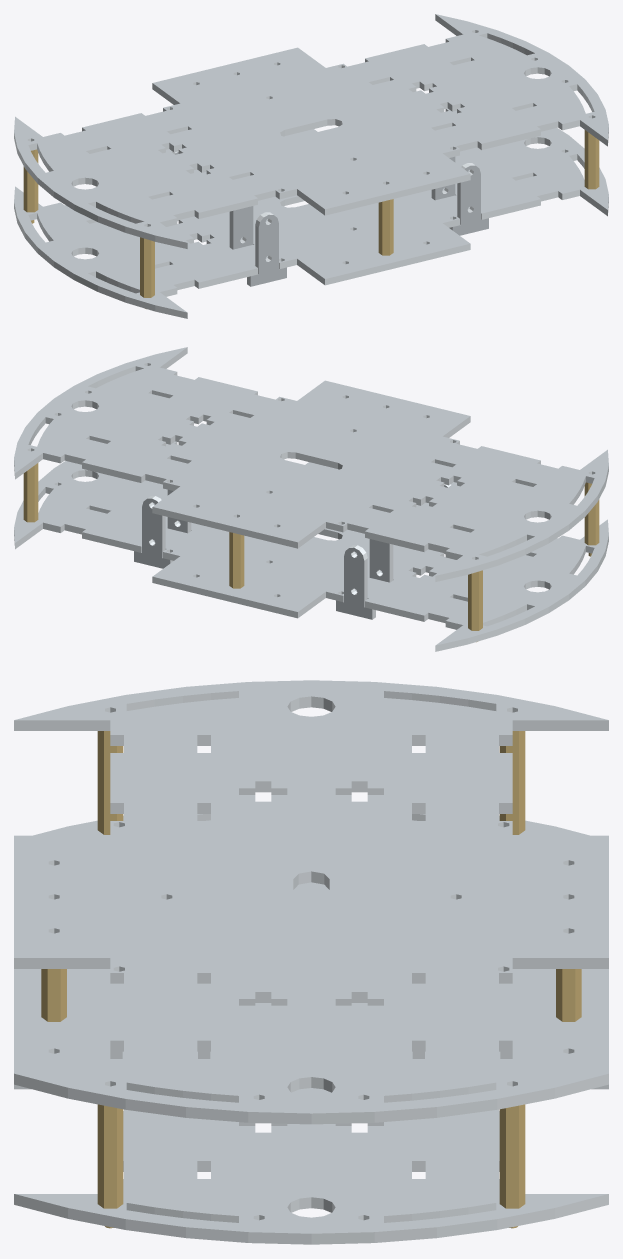
The model's file is chassis.glb.
3 renders of one model, top to bottom at view 1: azimuth 30°, elevation 25°; view 2: azimuth 150°, elevation 25°; view 3: azimuth 270°, elevation 25°, orthographic. The views are drawn at different scales.
Visible parts, largest first — view 1: chassis_plate_top, chassis_plate_bottom, chassis, chassis_bracket_rr_out, chassis_bracket_fr_out, chassis_bracket_rr_in; view 2: chassis_plate_top, chassis_plate_bottom, chassis, chassis_bracket_rl_out, chassis_bracket_fl_out, chassis_bracket_rl_in; view 3: chassis_plate_top, chassis_plate_bottom, chassis.
Boxes of the visible parts, <box> form: chassis_plate_top: <box>14,14,608,248</box>; chassis_plate_bottom: <box>14,108,608,318</box>; chassis: <box>23,130,599,309</box>; chassis_bracket_rr_out: <box>247,212,286,286</box>; chassis_bracket_fr_out: <box>449,163,488,235</box>; chassis_bracket_rr_in: <box>229,206,253,249</box>; chassis_plate_top: <box>14,347,608,581</box>; chassis_plate_bottom: <box>14,441,608,651</box>; chassis: <box>23,463,599,642</box>; chassis_bracket_rl_out: <box>336,545,375,619</box>; chassis_bracket_fl_out: <box>134,496,173,568</box>; chassis_bracket_rl_in: <box>369,539,393,582</box>; chassis_plate_top: <box>14,680,608,1124</box>; chassis_plate_bottom: <box>14,814,608,1244</box>; chassis: <box>41,731,581,1228</box>.
Bounding box in the file's own units: 0.255 × 0.041 × 0.148.
